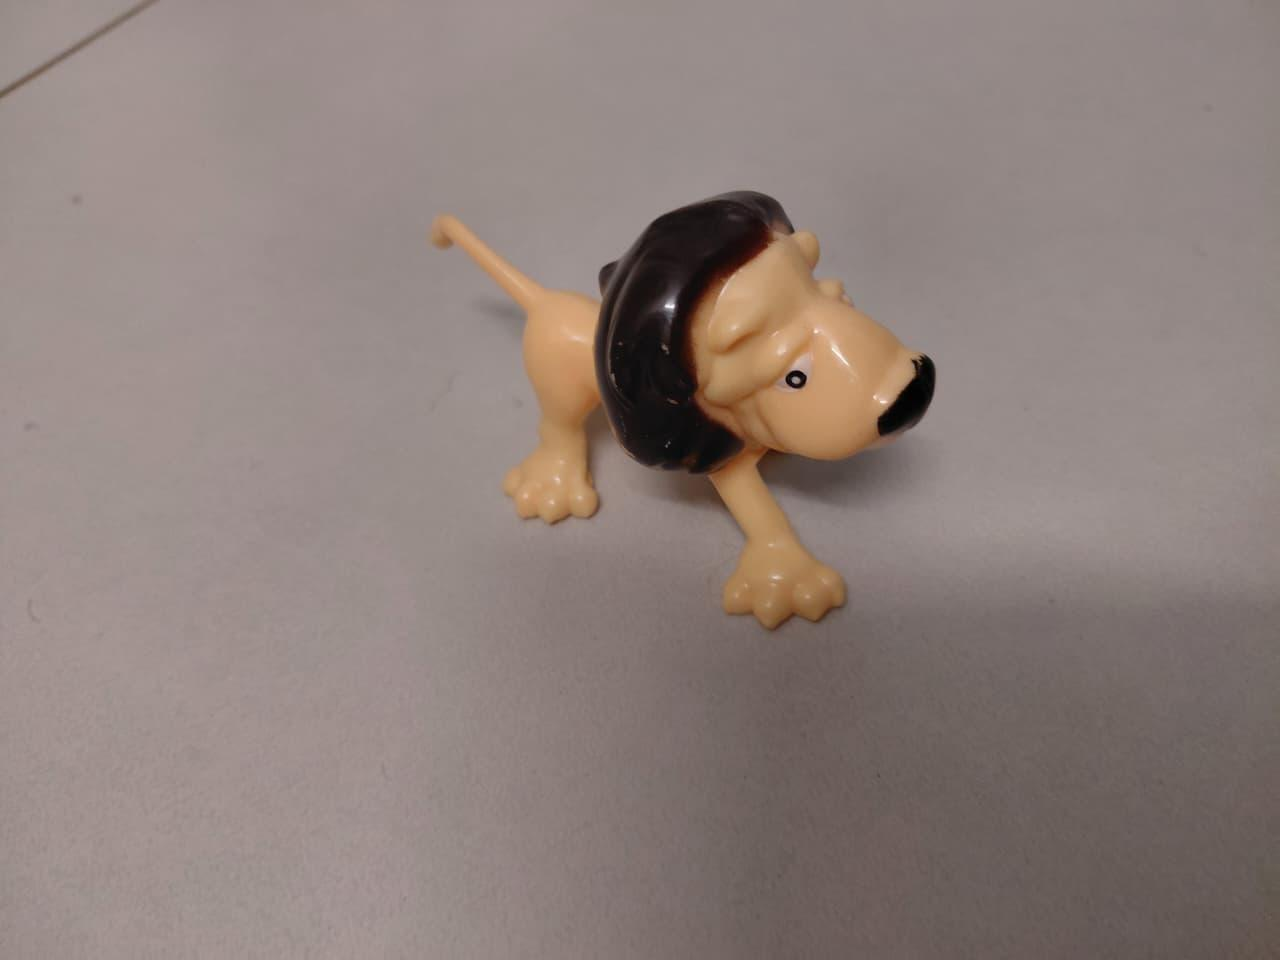lion: (402, 170, 997, 653)
